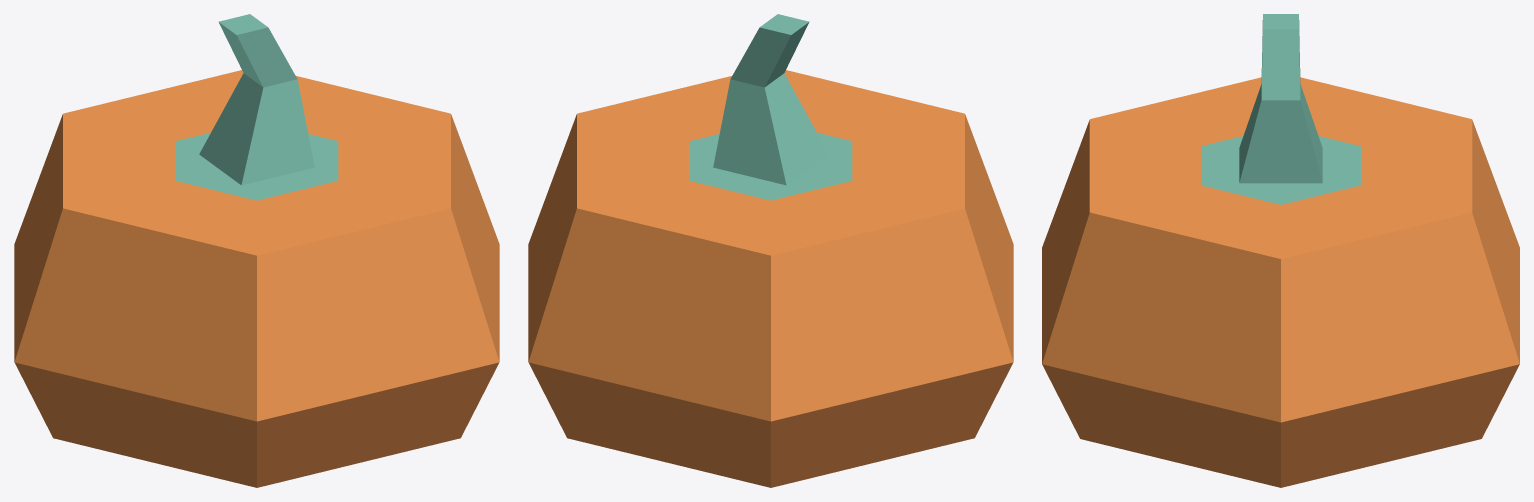
Rendered from pumpkin.fbx.
3 renders of one model, left to right at view 1: azimuth 30°, elevation 25°; view 2: azimuth 150°, elevation 25°; view 3: azimuth 270°, elevation 25°, orthographic.
Parts seen in each view (by area): view 1: pumpkin; view 2: pumpkin; view 3: pumpkin.
Part boxes in pixels (x1,y1,x2,y2): pumpkin: (14, 14, 499, 487); pumpkin: (528, 14, 1013, 487); pumpkin: (1042, 14, 1519, 487).
Size of the model in its own units: 3.57 by 2.58 by 3.09.
